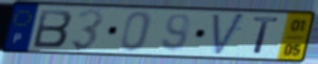0: (118, 10, 154, 54)
3: (69, 7, 109, 53)
9: (160, 13, 194, 54)
B: (31, 7, 75, 49)
T: (252, 15, 282, 56)
V: (210, 12, 248, 58)
